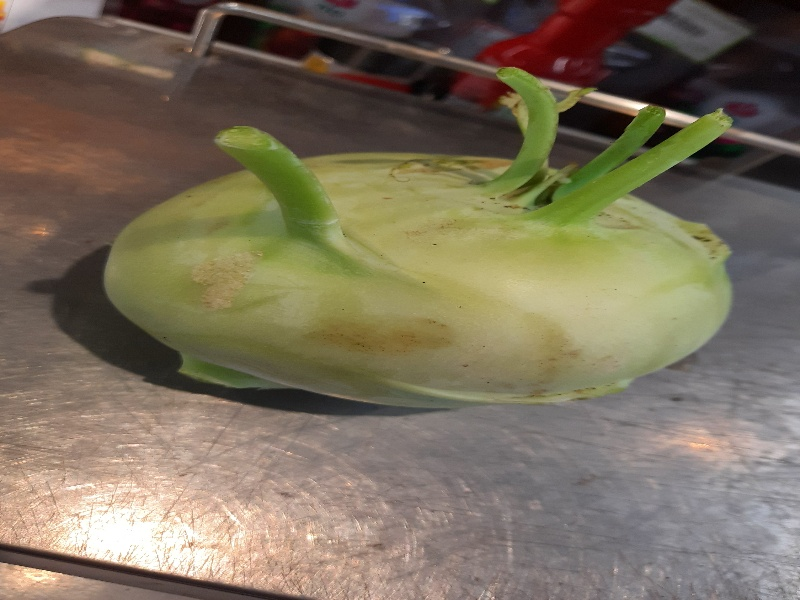vege: (90, 63, 746, 429)
